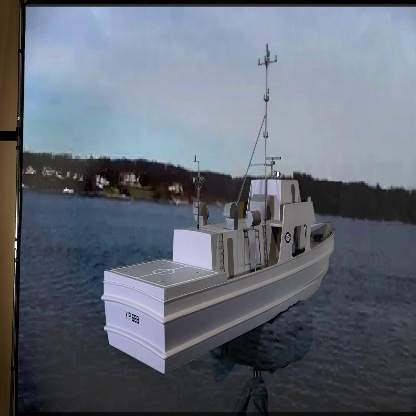YP689: (100, 42, 336, 375)
